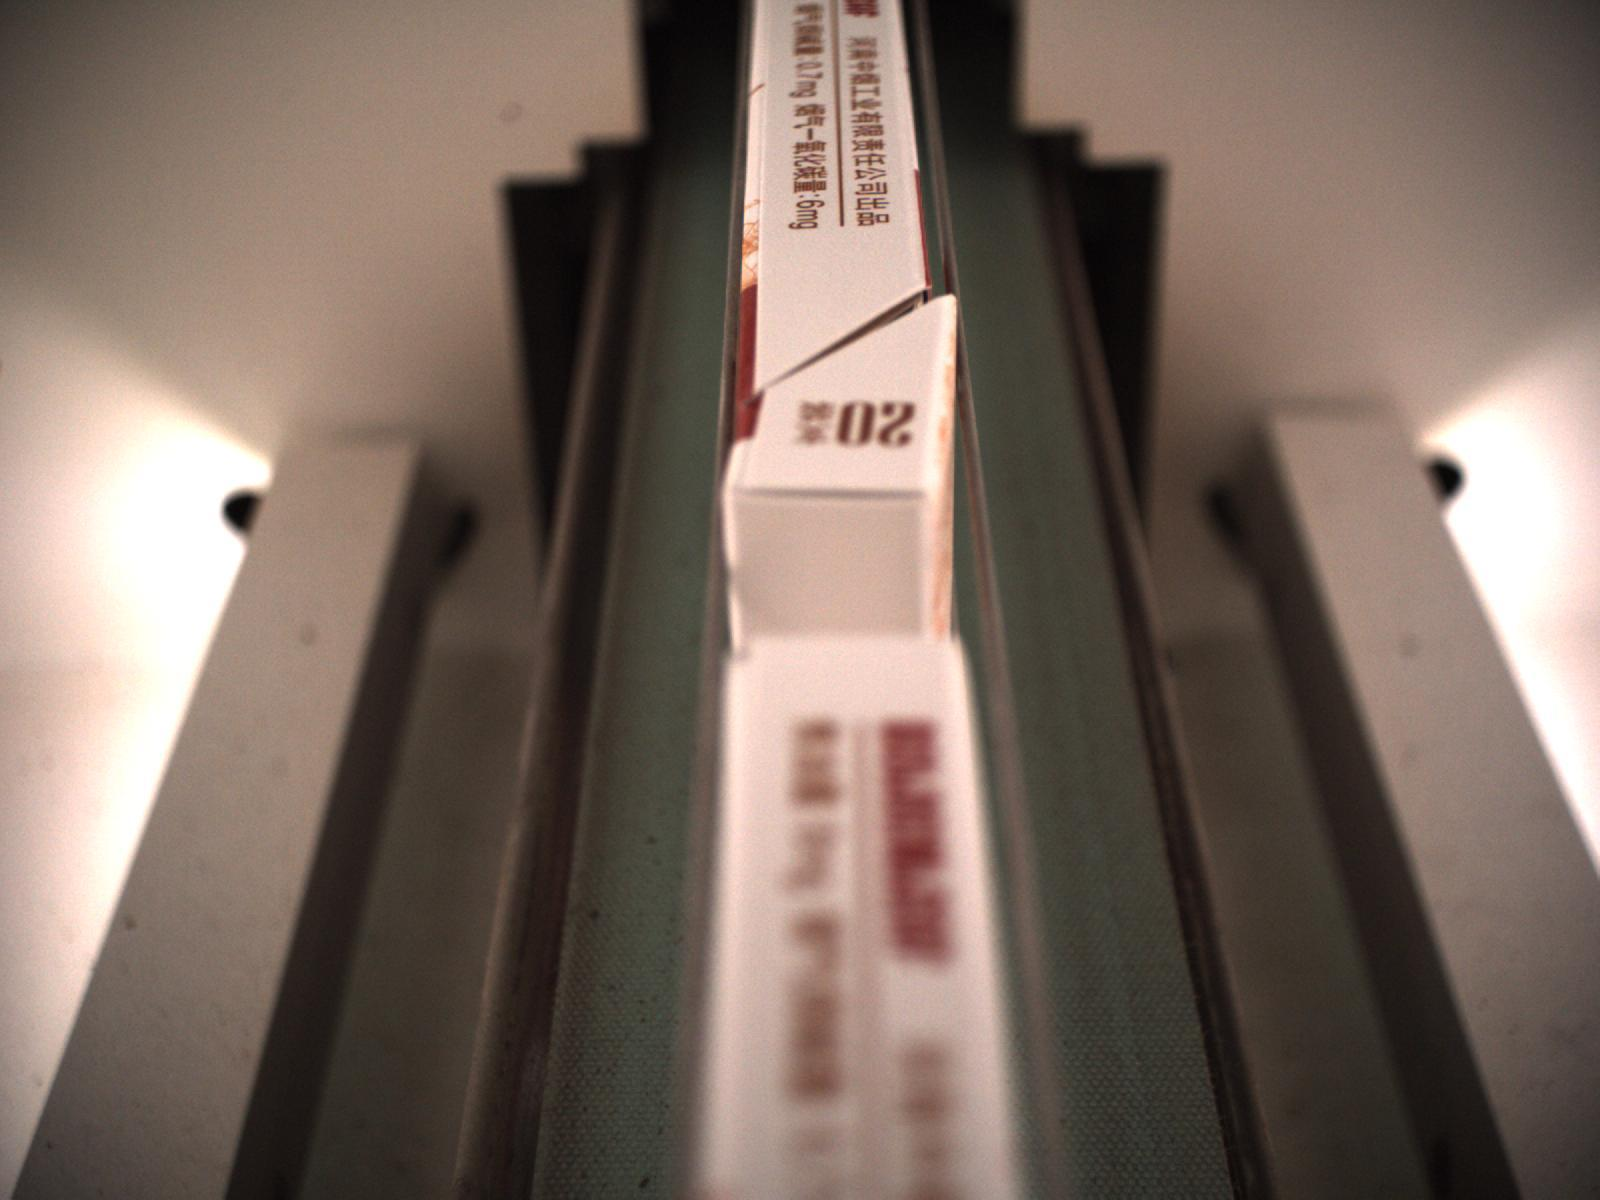headOpen_upper: (738, 283, 957, 410)
